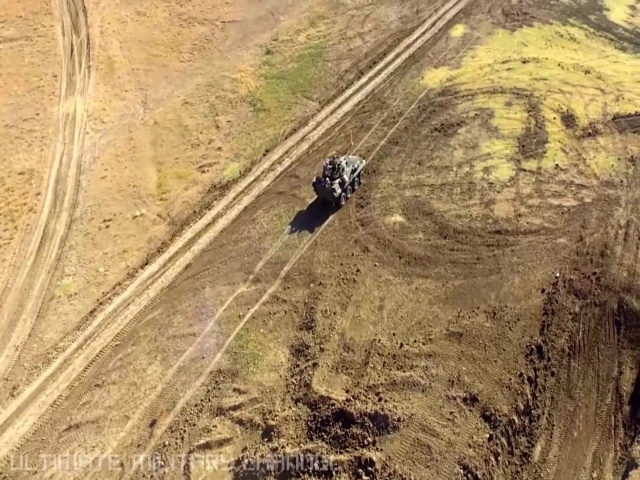vehicle: (311, 154, 364, 207)
